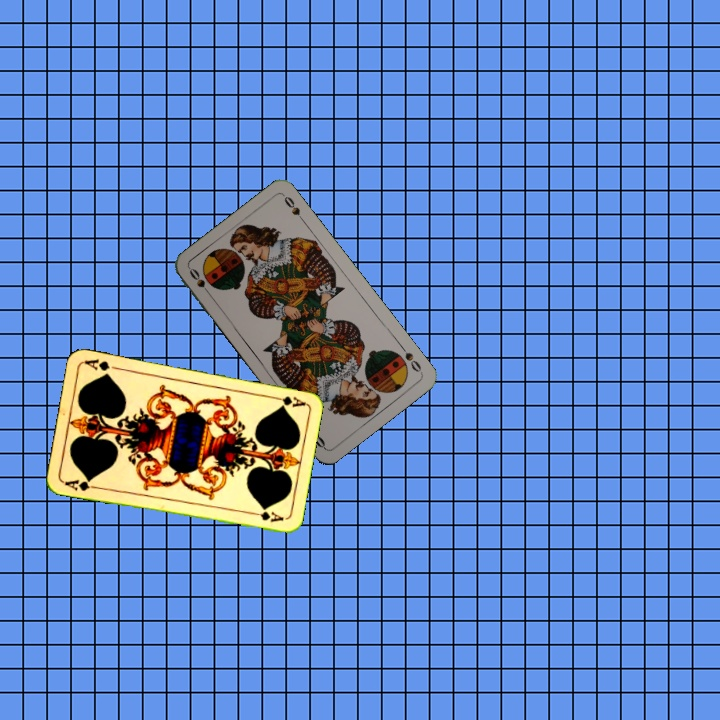GA: (61, 475, 101, 493), (267, 392, 307, 409)
SO: (185, 264, 214, 300), (396, 341, 425, 375)
